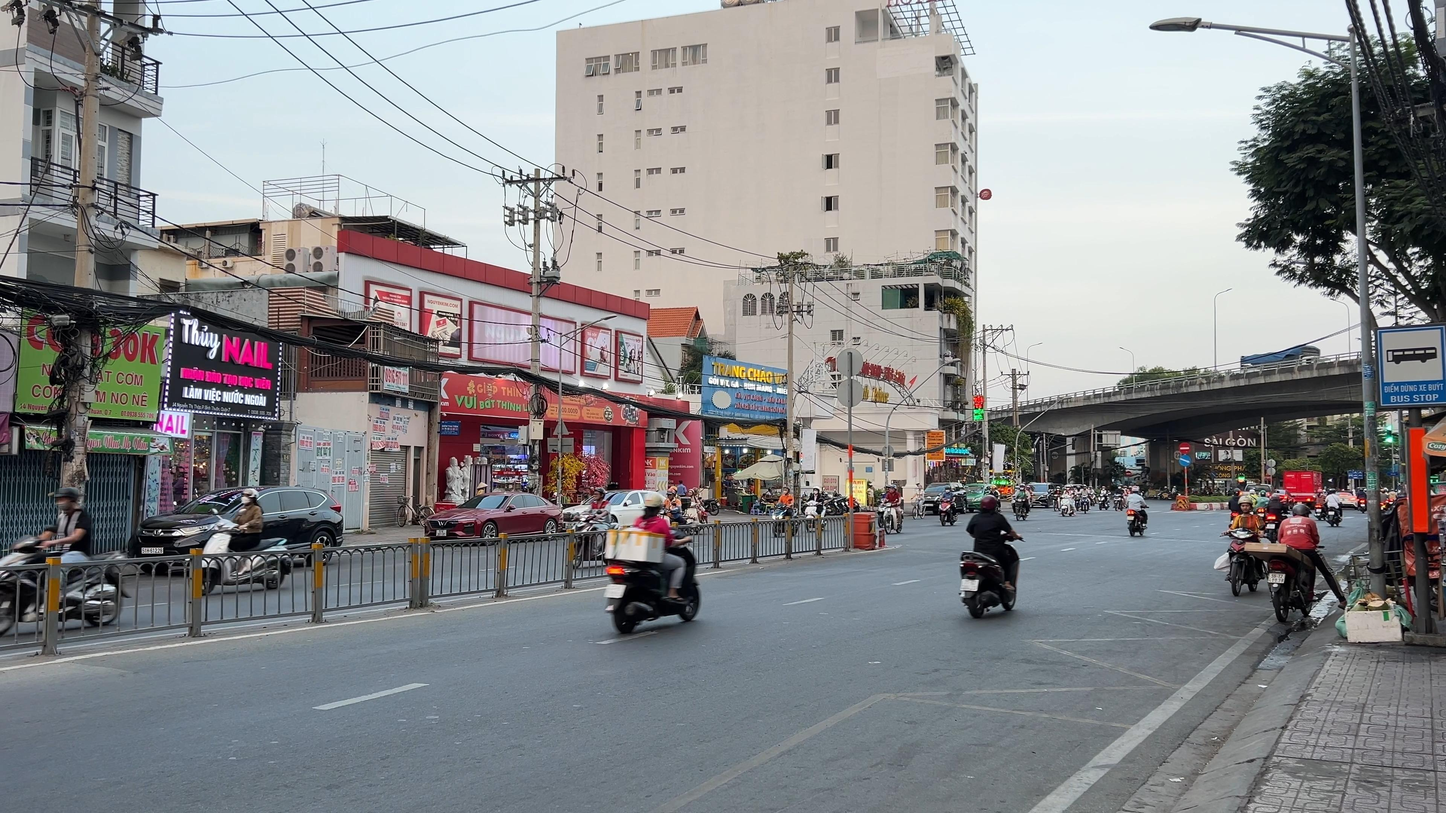bicyclist: (911, 484, 926, 520)
driver: (0, 486, 132, 637), (604, 491, 702, 633), (1244, 504, 1347, 622), (202, 488, 291, 596), (957, 494, 1026, 619), (1214, 496, 1267, 596), (570, 487, 619, 569), (769, 486, 801, 538), (802, 486, 830, 533), (1125, 486, 1149, 537), (880, 484, 904, 534), (936, 485, 958, 526), (1011, 483, 1032, 521), (1325, 489, 1345, 527)
helmet: (54, 487, 79, 511), (644, 492, 668, 514), (241, 488, 259, 507), (980, 495, 998, 512), (1292, 504, 1312, 518), (1238, 496, 1253, 513), (593, 487, 606, 501), (1271, 493, 1280, 501), (1233, 488, 1241, 497), (1132, 486, 1140, 494), (1260, 490, 1266, 497), (1249, 489, 1255, 495)
